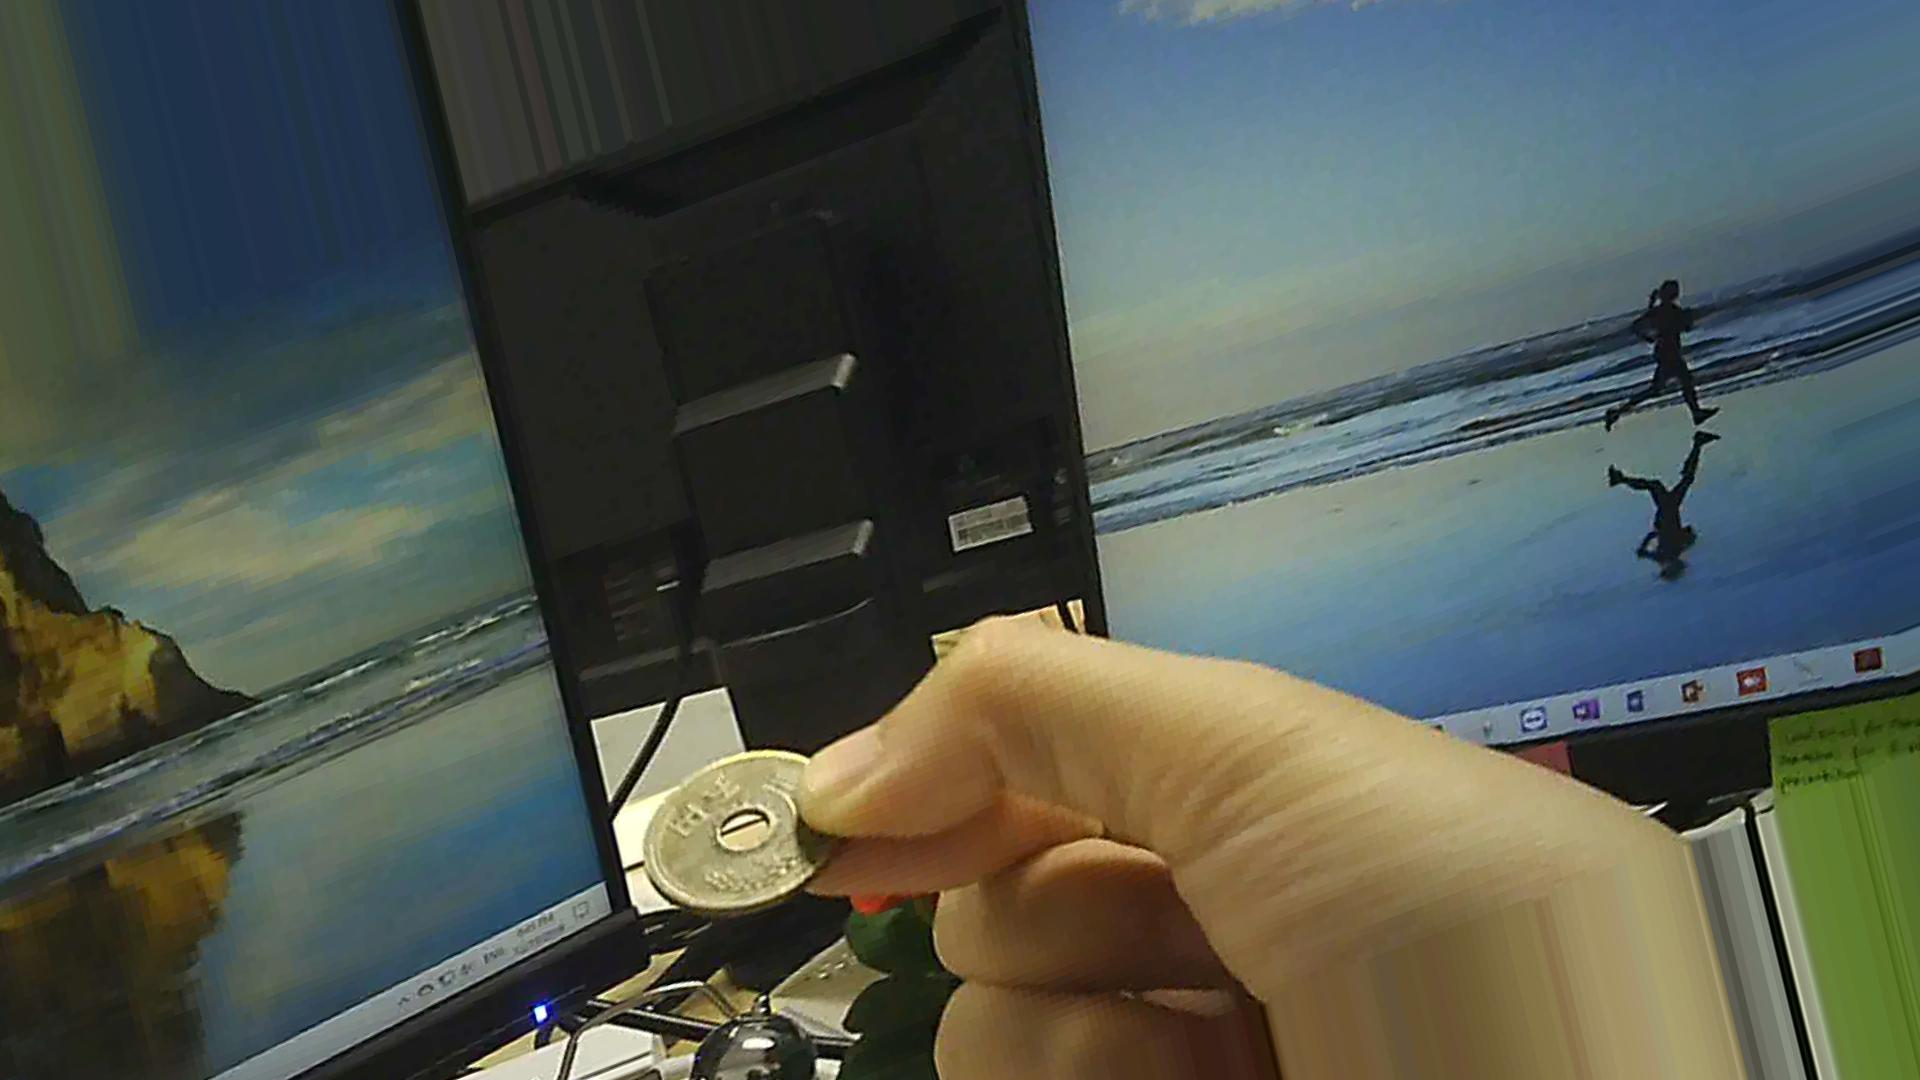5 Yen: (640, 735, 858, 916)
